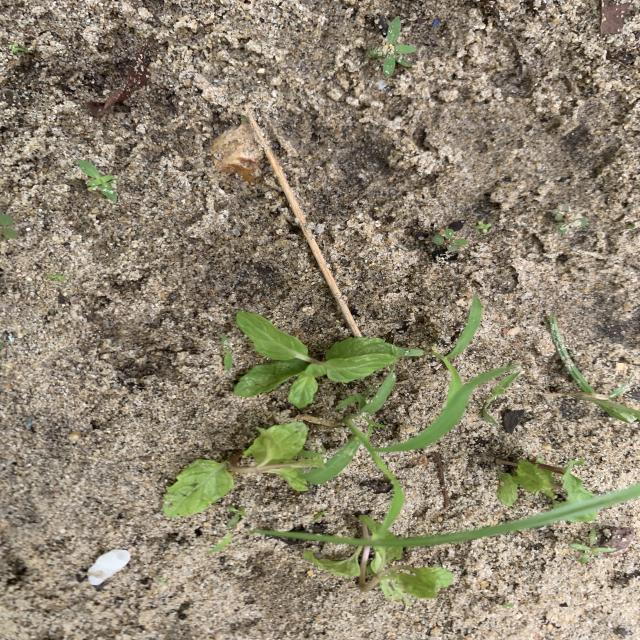crop: (234, 311, 399, 408), (163, 422, 323, 517), (316, 516, 452, 604), (496, 459, 596, 507)
weed: (259, 483, 640, 547), (331, 408, 457, 532), (423, 334, 520, 432), (558, 348, 640, 423), (367, 16, 417, 78), (77, 160, 118, 202), (0, 202, 28, 243), (207, 532, 235, 554), (220, 333, 233, 372), (228, 511, 244, 530), (472, 220, 492, 235)
